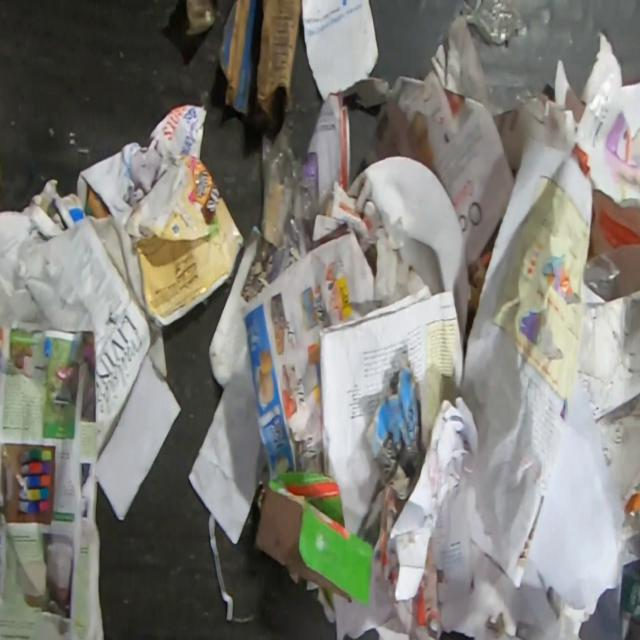cardboard: (75, 102, 208, 322), (125, 155, 247, 331), (252, 469, 374, 608), (362, 351, 427, 534), (217, 0, 302, 137)
rigid_plastic: (345, 154, 470, 354), (184, 0, 217, 38)
soft_plastic: (259, 121, 335, 257), (462, 0, 528, 47)
